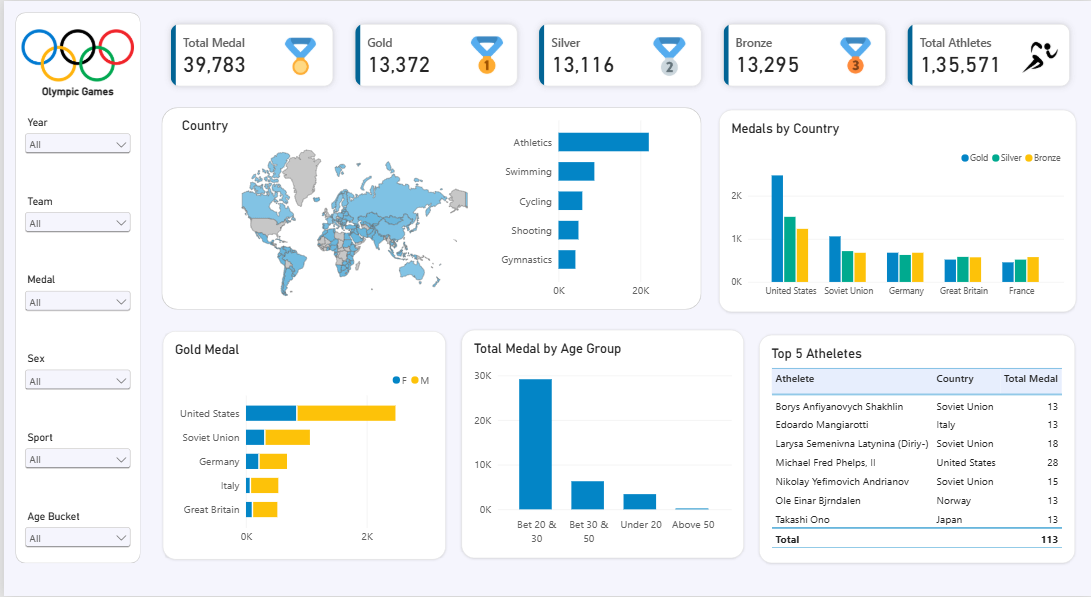

What the dashboard file says about the page in this screenshot:
{"tool":"powerbi","page":{"name":"Page 1","canvas":[1580,800],"ordinal":0},"visuals":[{"type":"shape","box":[217.7,147.2,798.5,279.1],"z":0},{"type":"cardVisual","fields":{"Data":["Measure_.Total Medal","Measure_.Gold","Measure_.Silver","Measure_.Bronze","Measure_.Total Athletes"]},"box":[213.6,20.1,1344.9,109],"z":1000},{"type":"shapeMap","title":"Country","fields":{"Category":["athlete.Team"],"Value":["CountNonNull(athlete.Medal)"]},"box":[229.7,147.2,509,286.6],"z":2000},{"type":"barChart","fields":{"Category":["athlete.Sport"],"Y":["Count(athlete.Name)"]},"box":[705.8,139.7,298.5,286.6],"z":3000},{"type":"clusteredColumnChart","title":"Medals by Country","fields":{"Category":["athlete.Team"],"Y":["Measure_.Gold","Measure_.Silver","Measure_.Bronze"]},"box":[1044.6,147.2,498.5,279.1],"z":4000},{"type":"barChart","title":"Gold Medal","fields":{"Y":["Measure_.Gold"],"Category":["athlete.Team"],"Series":["athlete.Sex"]},"box":[219.2,455.6,423.9,314.9],"z":5000},{"type":"columnChart","title":"Total Medal by Age Group","fields":{"Category":["athlete.Age Bucket"],"Y":["Measure_.Total Medal"]},"box":[674.4,455.6,392.5,314.9],"z":6000},{"type":"tableEx","title":"Top 5 Atheletes","fields":{"Values":["athlete.Name","athlete.Team","athlete.Medal"]},"box":[1093.8,455.6,450.7,314.9],"z":7000},{"type":"shape","box":[14.8,15.8,172.9,760.1],"z":8000},{"type":"image","box":[23.6,19.9,155.5,109.5],"z":9000},{"type":"textbox","box":[23.6,114.5,155.5,27.4],"z":10000},{"type":"slicer","fields":{"Values":["athlete.Year"]},"box":[23.6,158,155.5,59.7],"z":11000},{"type":"slicer","fields":{"Values":["athlete.Team"]},"box":[23.6,266.9,155.5,59.7],"z":12000},{"type":"slicer","fields":{"Values":["athlete.Medal"]},"box":[23.6,375.8,155.5,59.7],"z":13000},{"type":"slicer","fields":{"Values":["athlete.Sex"]},"box":[23.6,484.7,155.5,59.7],"z":14000},{"type":"slicer","fields":{"Values":["athlete.Sport"]},"box":[23.6,593.6,155.5,59.7],"z":15000},{"type":"slicer","fields":{"Values":["athlete.Age Bucket"]},"box":[23.6,702.5,155.5,59.7],"z":16000}]}

Visuals, with their boxes on the page's 1580x800 design canvas (x1, y1, x2, y2). These are canvas units, not pixel positions in the 1091x597 screenshot, which may show the page scaled, cropped or inside an application window:
shape: locate(218, 147, 1016, 426)
cardVisual - Measure_.Total Medal x Measure_.Gold: locate(214, 20, 1558, 129)
"Country" shapeMap: locate(230, 147, 739, 434)
barChart - athlete.Sport x Count(athlete.Name): locate(706, 140, 1004, 426)
"Medals by Country" clusteredColumnChart: locate(1045, 147, 1543, 426)
"Gold Medal" barChart: locate(219, 456, 643, 770)
"Total Medal by Age Group" columnChart: locate(674, 456, 1067, 770)
"Top 5 Atheletes" tableEx: locate(1094, 456, 1544, 770)
shape: locate(15, 16, 188, 776)
image: locate(24, 20, 179, 129)
textbox: locate(24, 114, 179, 142)
slicer - athlete.Year: locate(24, 158, 179, 218)
slicer - athlete.Team: locate(24, 267, 179, 327)
slicer - athlete.Medal: locate(24, 376, 179, 436)
slicer - athlete.Sex: locate(24, 485, 179, 544)
slicer - athlete.Sport: locate(24, 594, 179, 653)
slicer - athlete.Age Bucket: locate(24, 702, 179, 762)
